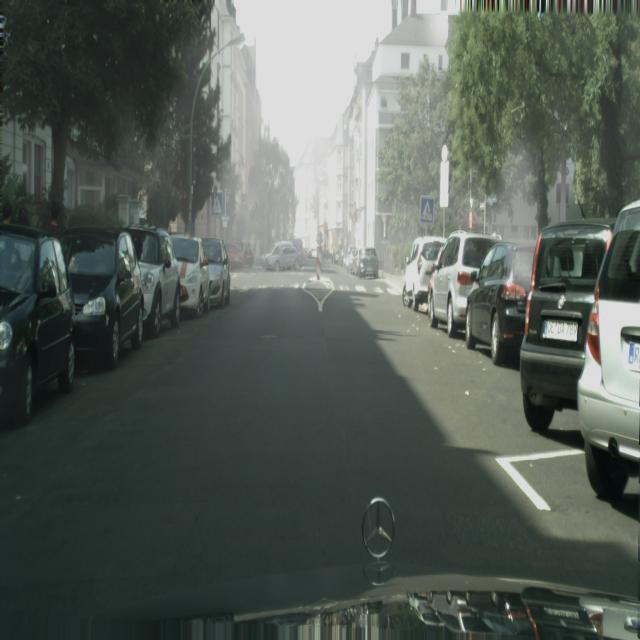person: (519, 220, 613, 432), (576, 200, 640, 499), (0, 224, 76, 428), (61, 226, 145, 368), (465, 239, 536, 367), (428, 231, 502, 337), (122, 222, 182, 338), (170, 234, 211, 318), (401, 236, 446, 312), (202, 238, 231, 308), (261, 241, 305, 272), (357, 247, 378, 279), (225, 242, 244, 268), (242, 244, 254, 268)
